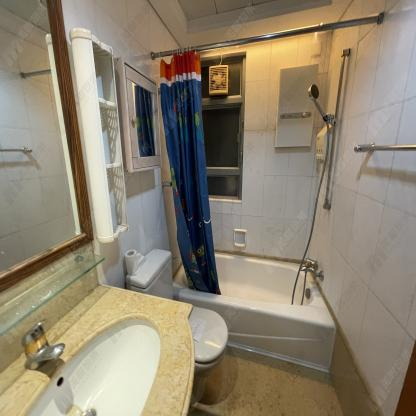Bathtub: (172, 246, 336, 373)
Exhaust Fan: (209, 66, 228, 94)
Faucet: (20, 314, 67, 370)
Toilet: (125, 247, 231, 407)
Toilet Sink: (0, 302, 195, 416)
Water Heater: (275, 64, 319, 148)
